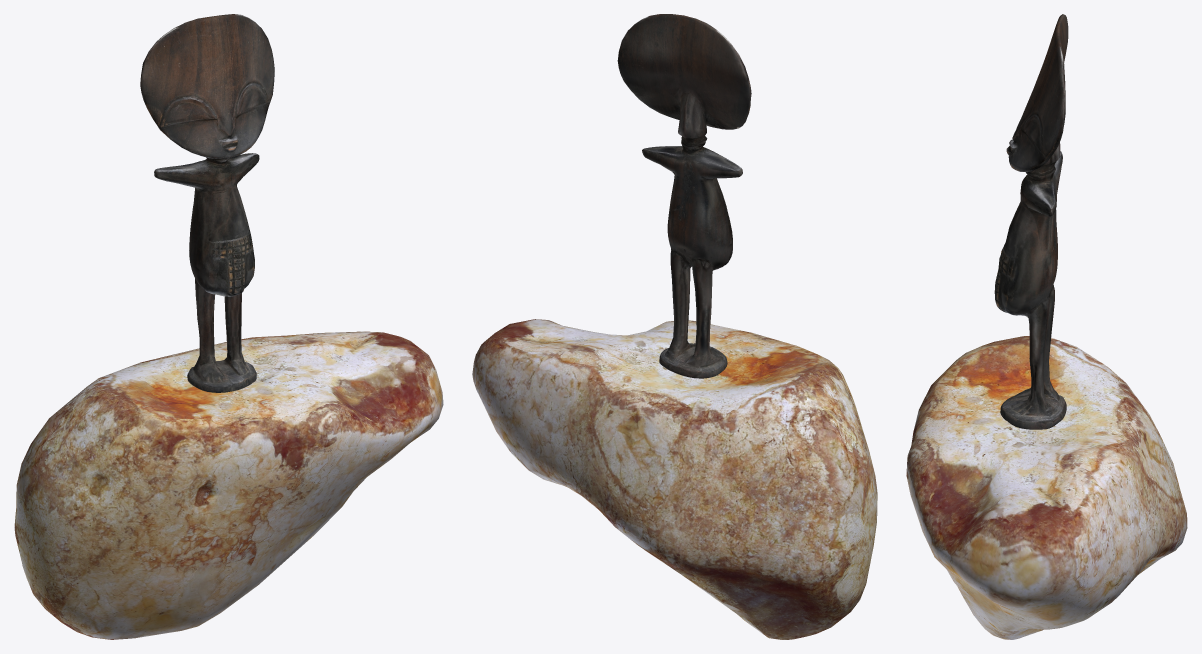
Rendered from asset.glb.
The picture shows the model from 3 angles, left to right: view 1: azimuth 30°, elevation 25°; view 2: azimuth 150°, elevation 25°; view 3: azimuth 270°, elevation 25°; orthographic projection. The views are drawn at different scales.
Parts seen in each view (by area): view 1: rock, akwaba_ashanti_fertility; view 2: rock, akwaba_ashanti_fertility; view 3: rock, akwaba_ashanti_fertility.
Boxes of the visible parts, x1,y1,x2,y2 form: rock: (14, 331, 443, 639); akwaba_ashanti_fertility: (140, 14, 274, 392); rock: (472, 319, 877, 639); akwaba_ashanti_fertility: (617, 14, 751, 378); rock: (906, 336, 1187, 639); akwaba_ashanti_fertility: (994, 14, 1068, 429).
Size of the model in its own units: 0.8602 by 1.23 by 0.4896.
2 materials, 2 textured.
